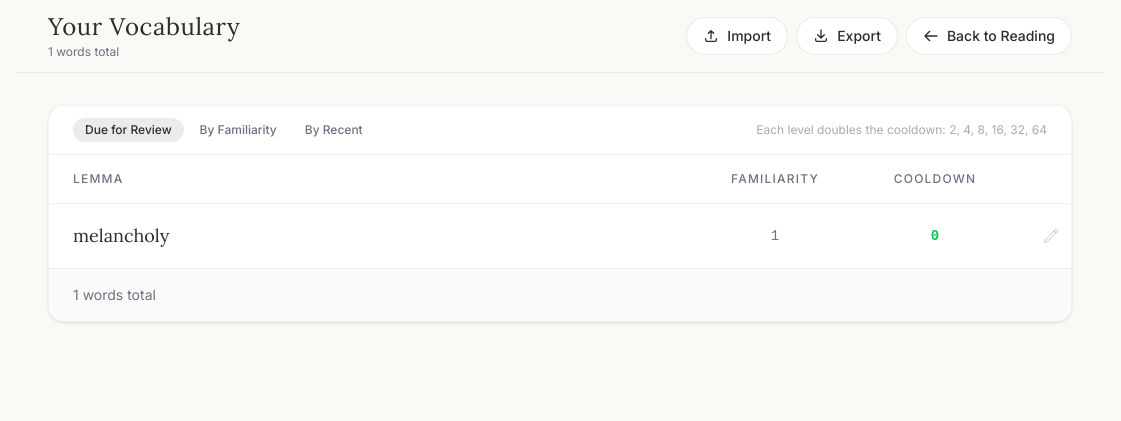
Test case: StatsView.vue › moves delete out of the row edit action
Click the row "melancholy 1 0".
click(121, 236)  # box top-left (49, 204), bottom-right (1071, 268)
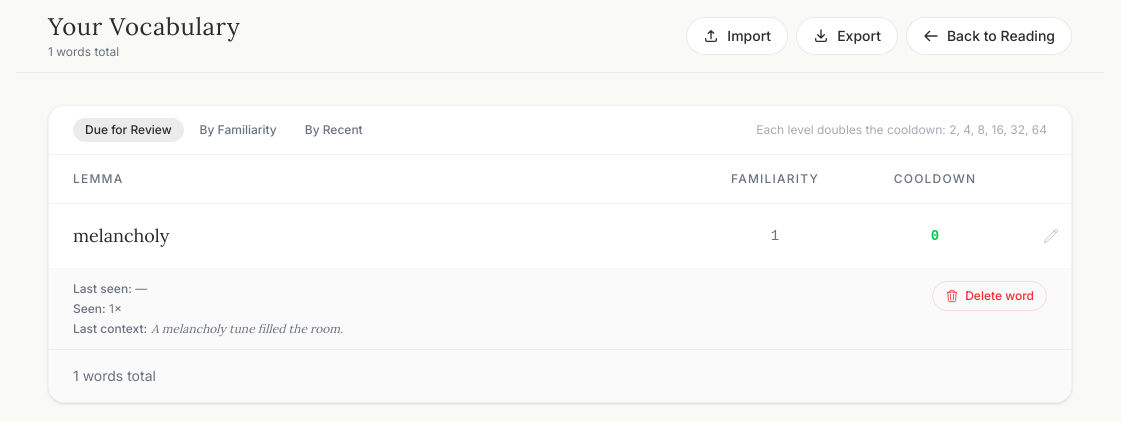
Check: the button with test id "stats-detail-delete" reads "Delete word", box top-left (932, 281), bottom-right (1047, 311)
